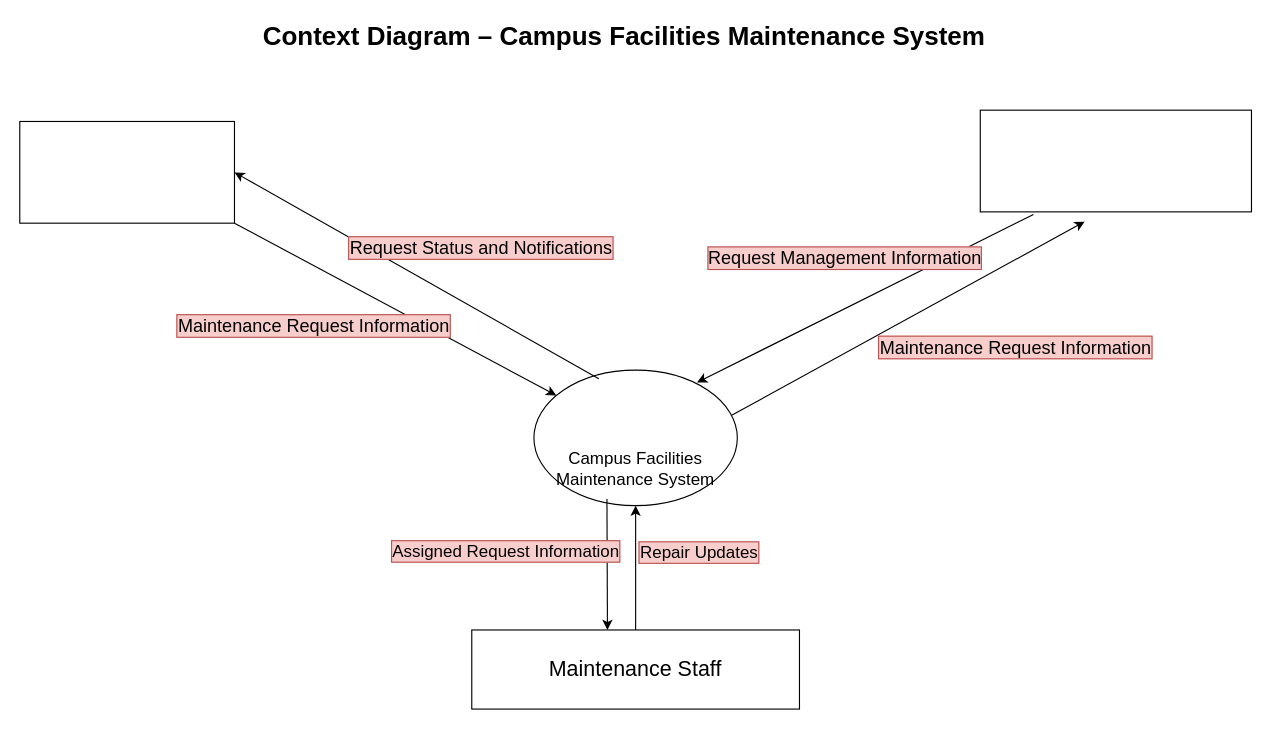
Some shapes in this 1271 by 729 pixel diagram are drawn without their labels. Here are the shapes that lost their labels. From the top down, the box of each, then its label:
(19, 120, 234, 223): Student
(979, 109, 1251, 212): Facilities Administrator
